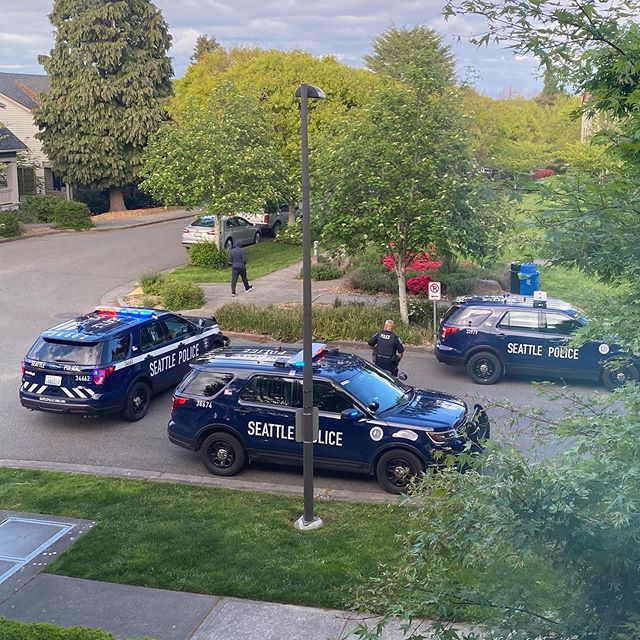pen: (223, 241, 255, 294)
police car: (177, 344, 505, 483), (15, 302, 221, 418), (440, 284, 638, 390)
street: (1, 216, 199, 448)
tree: (318, 34, 489, 306), (139, 29, 296, 262), (38, 1, 186, 212)
